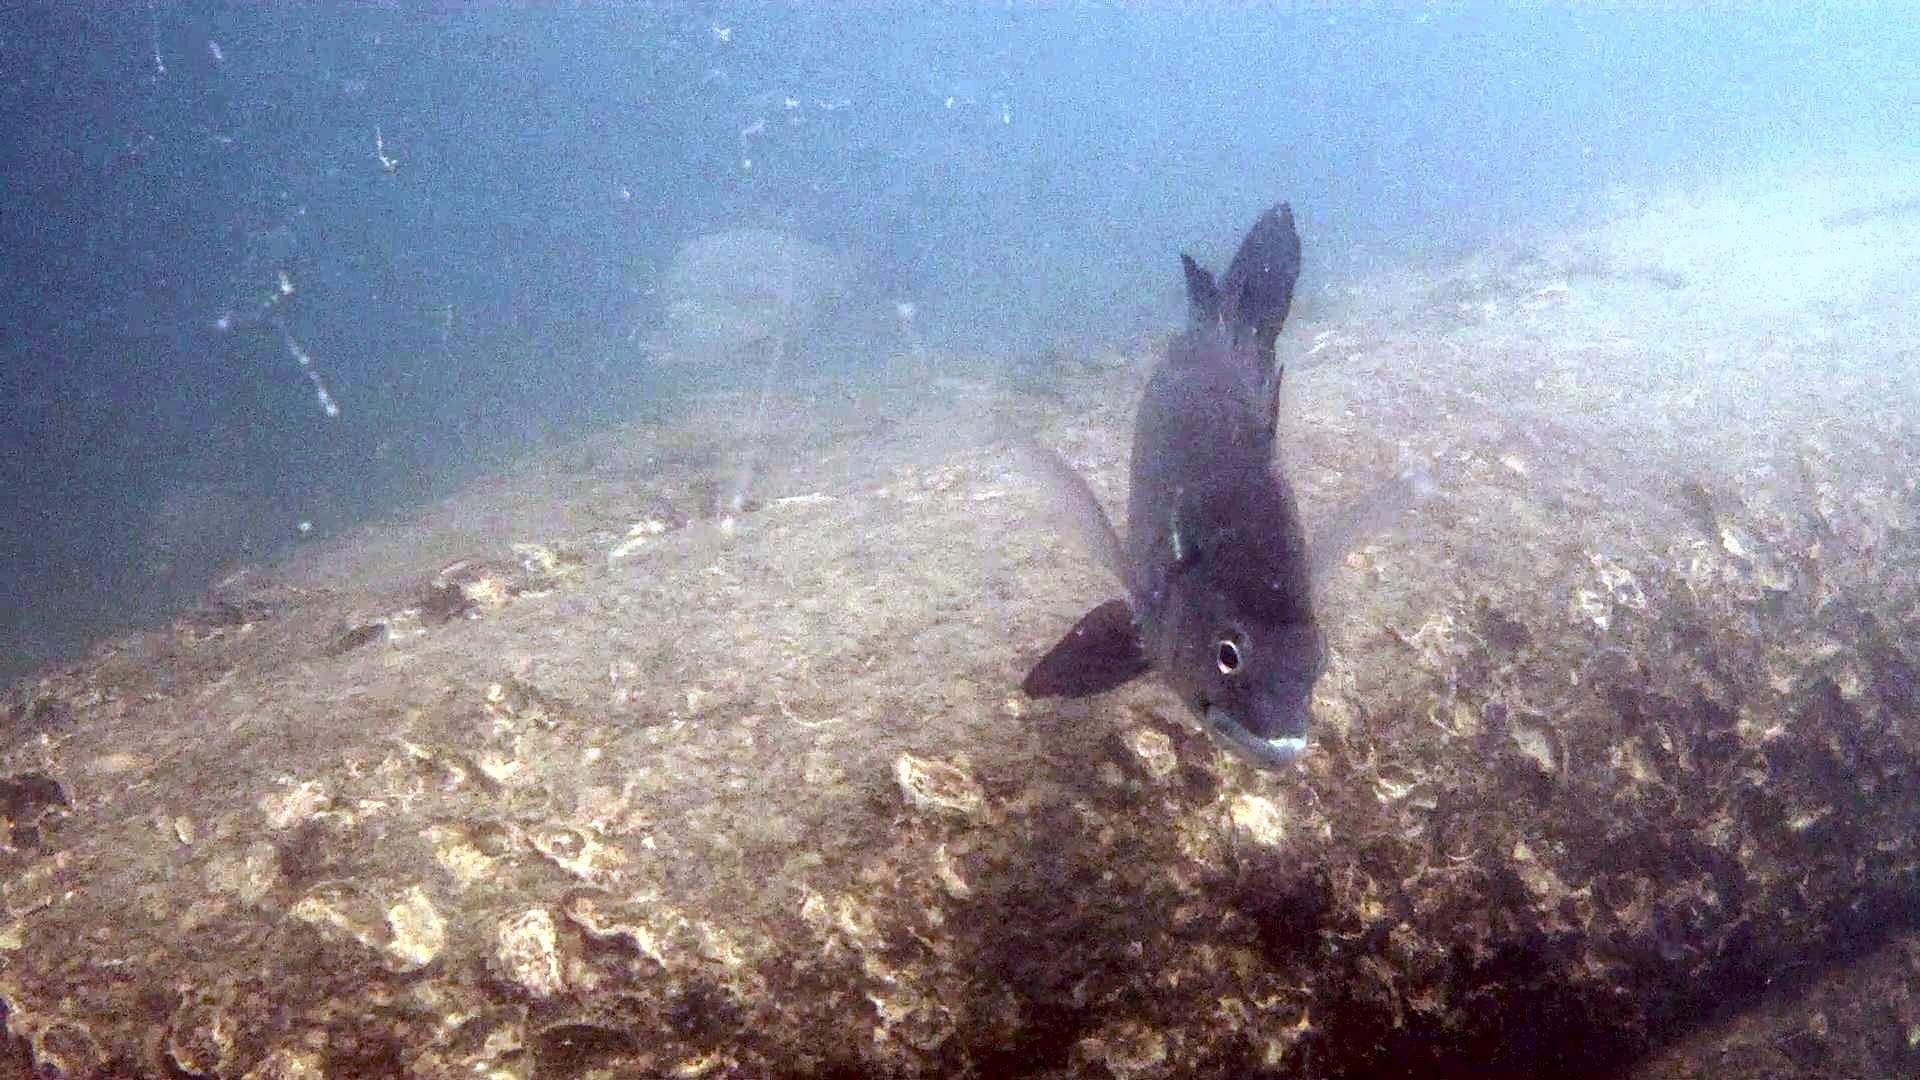acanthopagrus palmaris: (1004, 189, 1464, 785)
